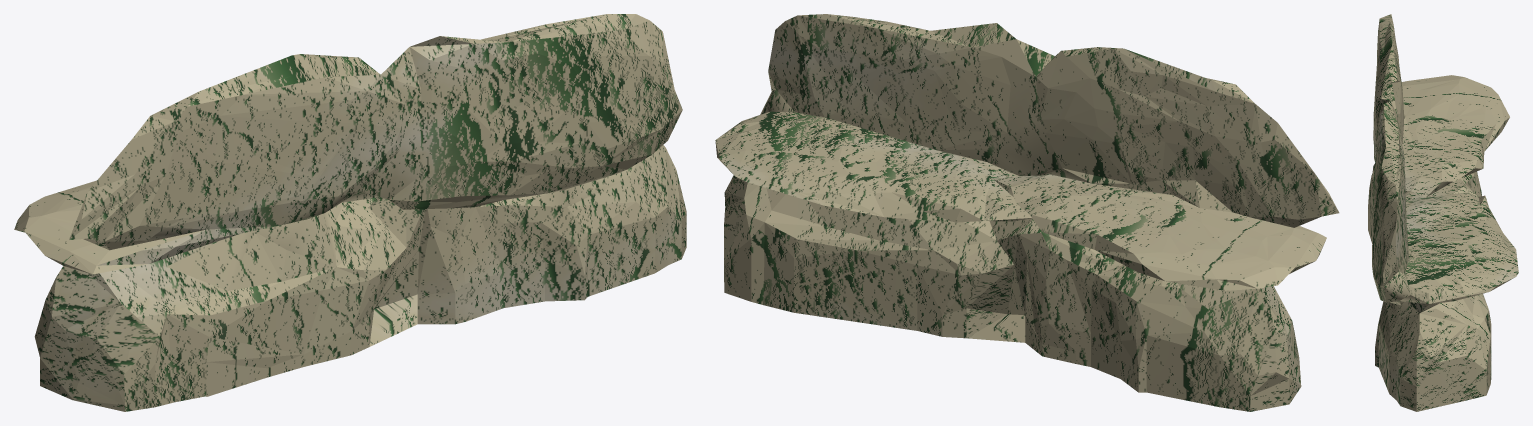
The model's file is m_benchStone.fbx.
3 renders of one model, left to right at view 1: azimuth 30°, elevation 25°; view 2: azimuth 150°, elevation 25°; view 3: azimuth 270°, elevation 25°, orthographic. The views are drawn at different scales.
Parts seen in each view (by area): view 1: pPlatonic52; view 2: pPlatonic52; view 3: pPlatonic52.
Part boxes in pixels (box(x1,y1,x2,y2)): pPlatonic52: box(14, 14, 686, 411); pPlatonic52: box(715, 14, 1339, 411); pPlatonic52: box(1368, 14, 1518, 411).
Size of the model in its own units: 770 by 350 by 217.
